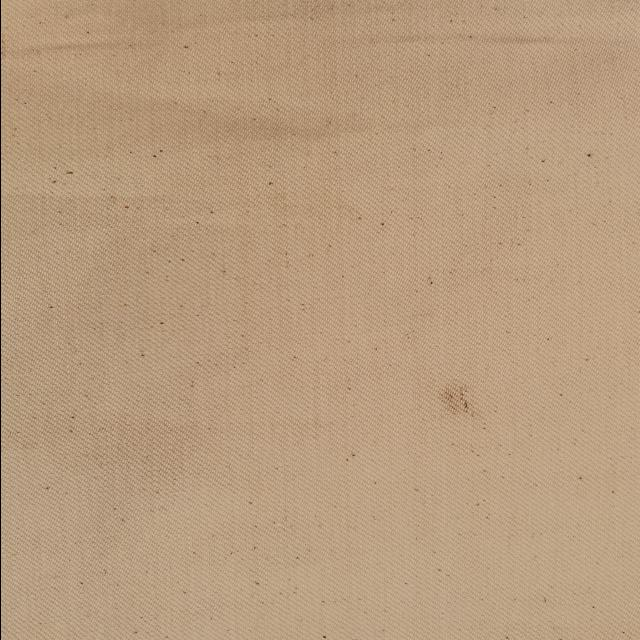taaaches: (427, 379, 492, 423)
